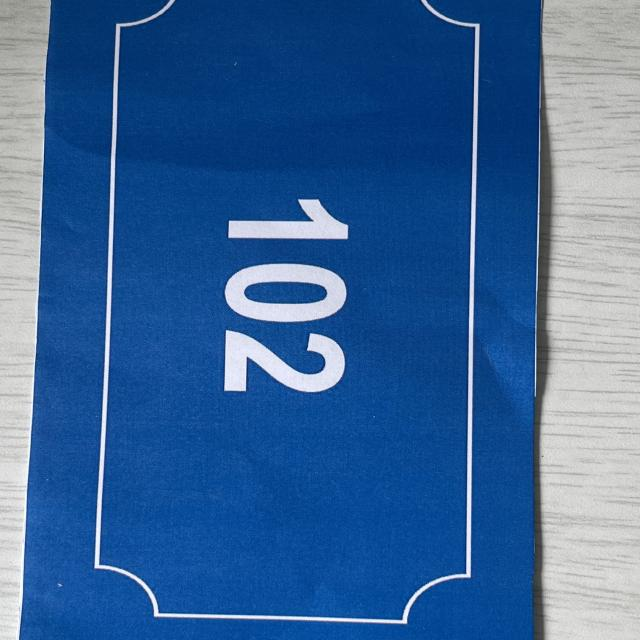Card: (3, 0, 589, 640)
